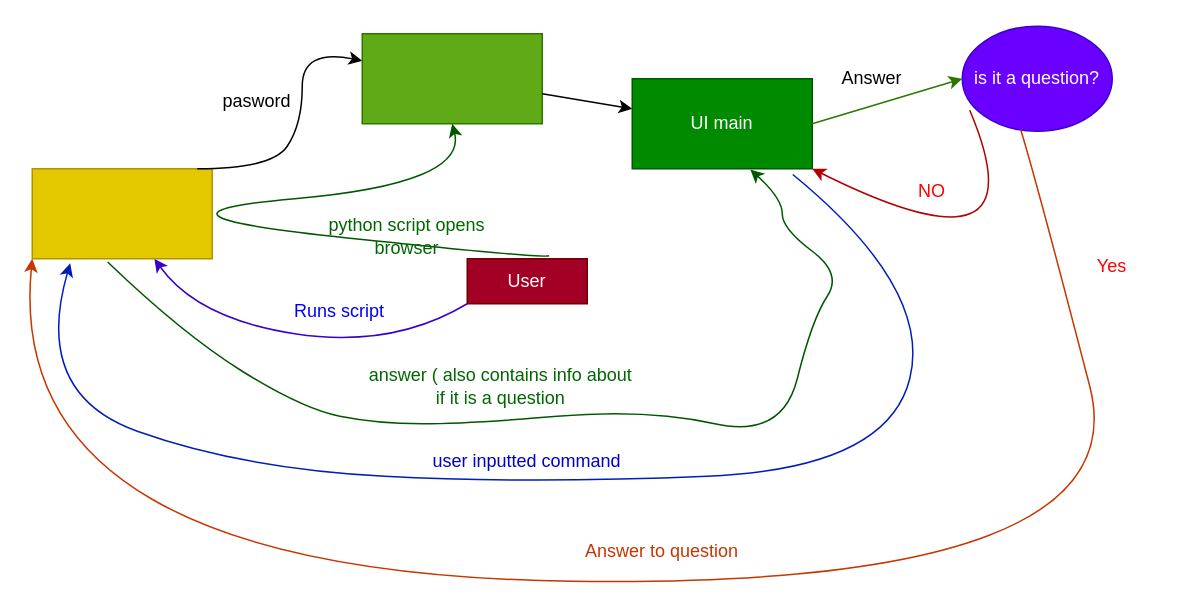
Some shapes in this 1184 by 609 pixel diagram are drawn without their labels. The shapes that lost their labels are listed below. From the top down, each one's centre as x and y in pixels, then its label:
the point at 451,78: UI login screen
the point at 121,213: python( takes password)
